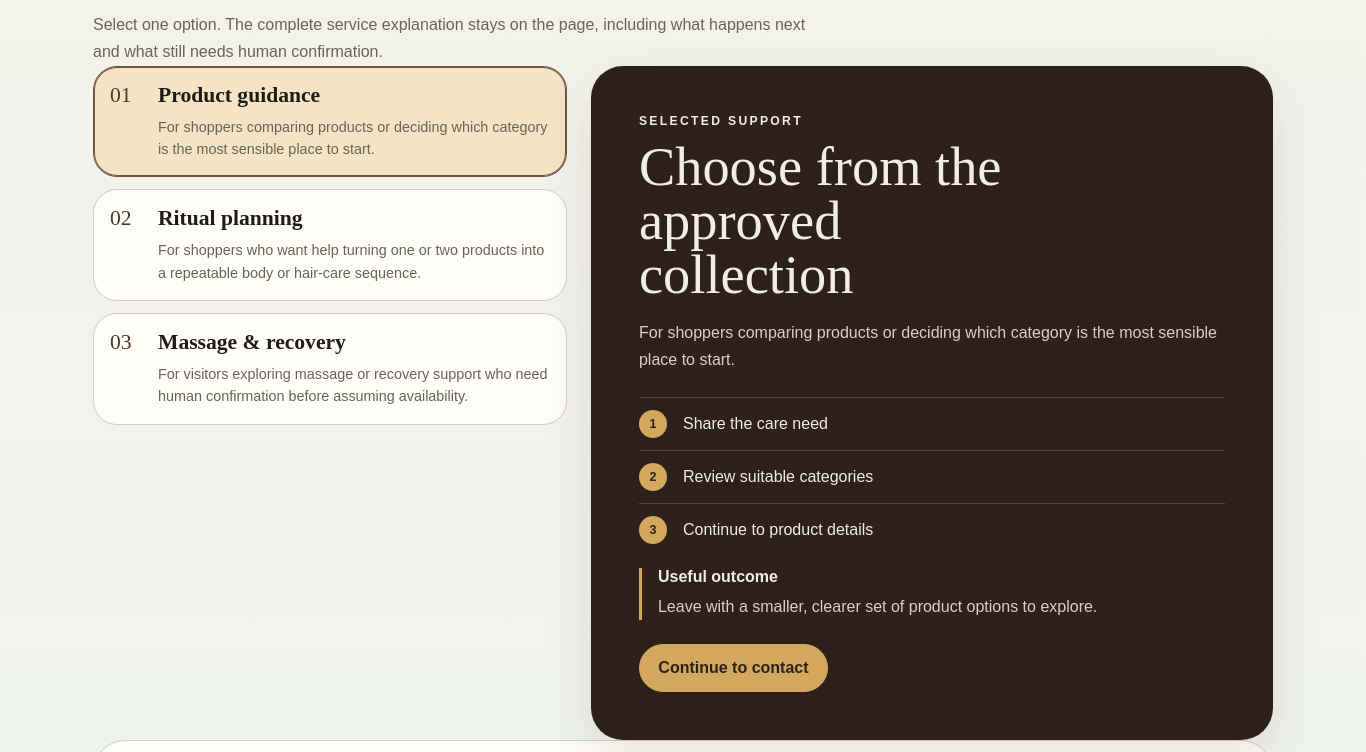
Scenario: ServicesScreen › switches the full support explanation
(page scrolled)
Step 1. Click the button "Massage & recovery" → coordinates (330, 369), box [93, 313, 567, 425]
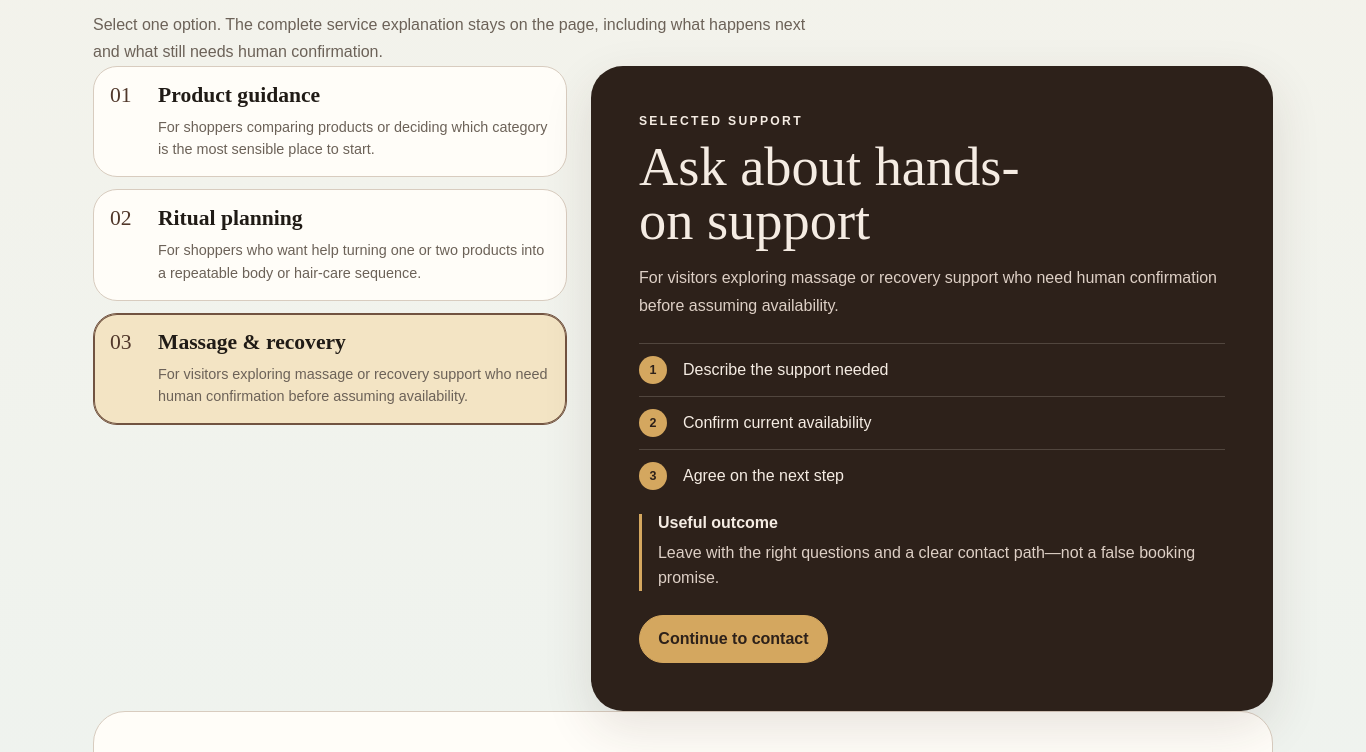
Result: the heading "Ask about hands-on support" is shown at [639, 140, 1020, 248]
